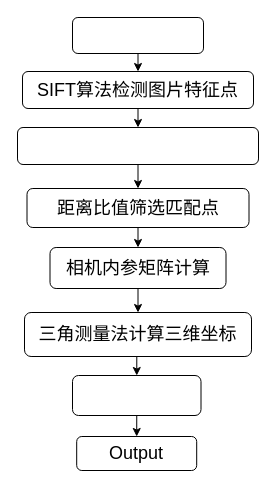
This 276x488 diagram has some shape labels left out. Each missing label, with the box of its shape:
Input: (72, 16, 204, 54)
KNN匹配算法匹配特征点: (16, 126, 258, 164)
可视化输出: (72, 374, 201, 416)
